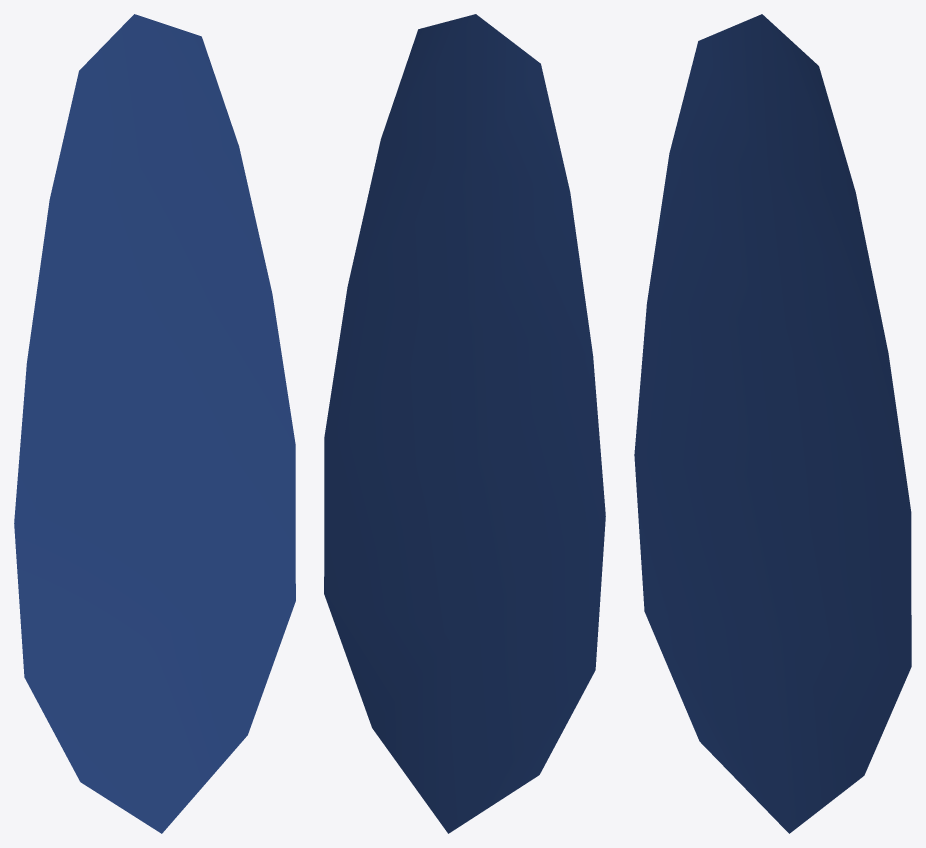
The model's file is lovebird_feather_flight_secondary_021.obj.
3 views of the same model, side by side, from view 1: azimuth 30°, elevation 25°; view 2: azimuth 150°, elevation 25°; view 3: azimuth 330°, elevation 25° (orthographic).
Parts seen in each view (by area): view 1: feather_flight_secondary_021; view 2: feather_flight_secondary_021; view 3: feather_flight_secondary_021.
Boxes of the visible parts, x1,y1,x2,y2 form: feather_flight_secondary_021: (14,14,295,833); feather_flight_secondary_021: (324,14,605,833); feather_flight_secondary_021: (634,14,911,833).
Bounding box in the file's own units: 0.00536 × 0.015 × 0.00016.
